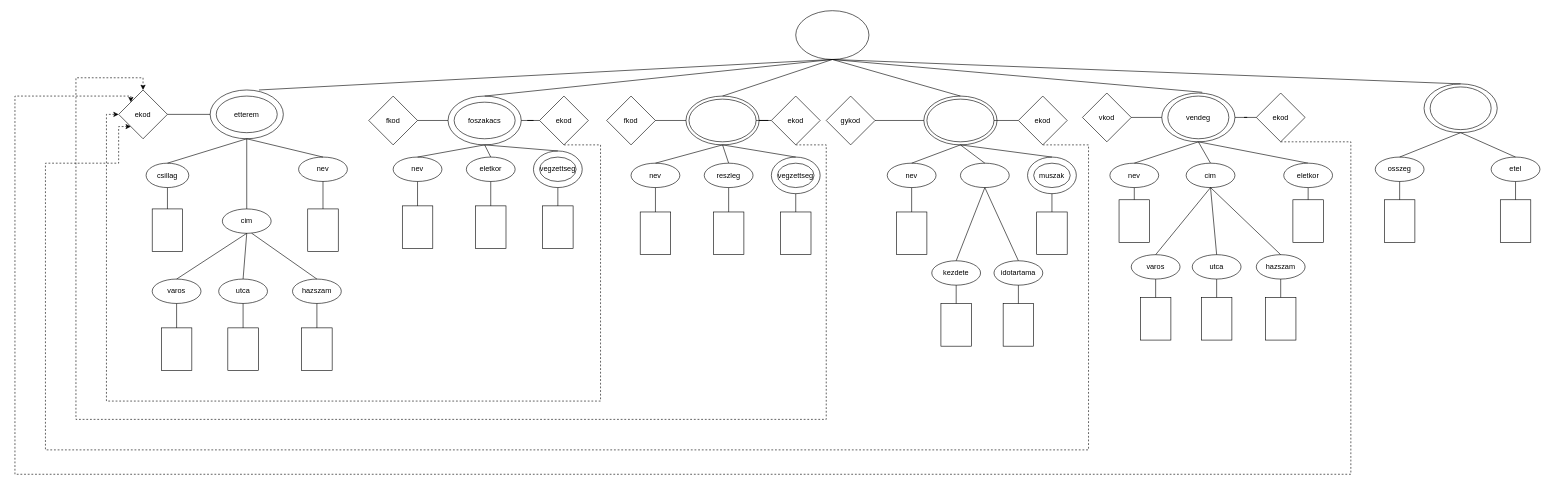
Some shapes in this 1551 by 490 pixel diagram are drawn without their labels. Each missing label, with the centre of its shape:
"GEB15I_vendeglatas" goes at [832,34].
"gyakorlat" goes at [984,175].
"gyakornok" goes at [960,120].
"rendeles" goes at [1460,108].
"szakacs" goes at [722,120].
